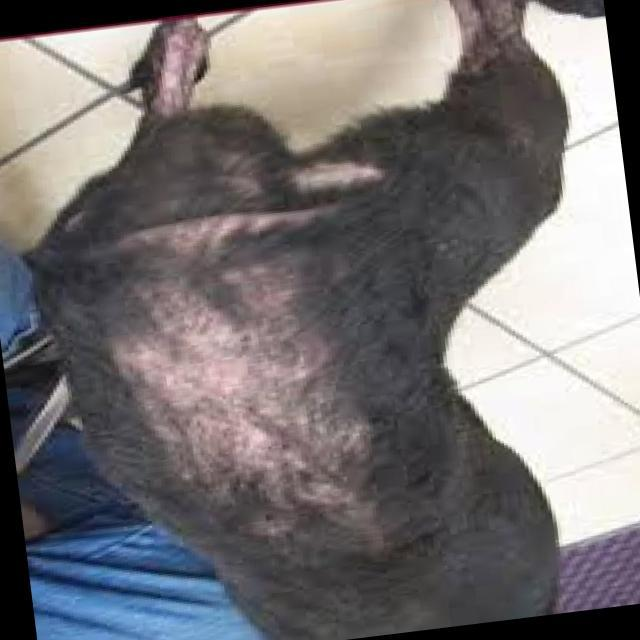allergic dermatitis: (118, 267, 400, 543)
